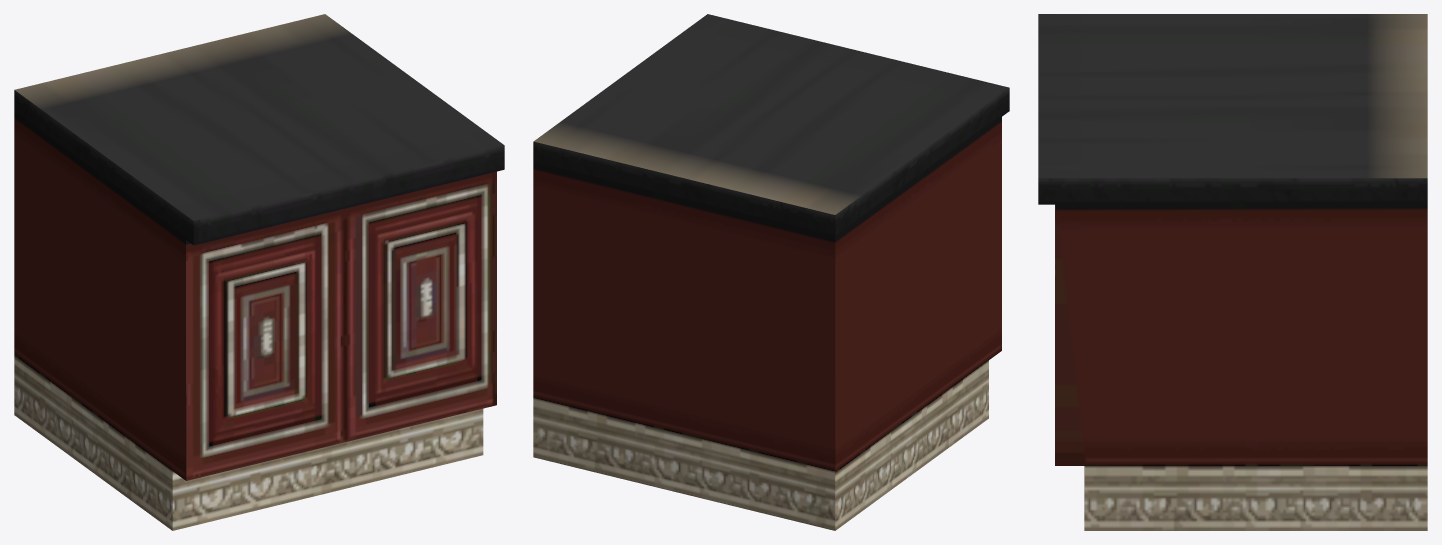
The model's file is furni_0201122_02.FBX.
3 renders of one model, left to right at view 1: azimuth 30°, elevation 25°; view 2: azimuth 150°, elevation 25°; view 3: azimuth 270°, elevation 25°, orthographic. The views are drawn at different scales.
Visible parts, largest first — view 1: furni_0201122_02; view 2: furni_0201122_02; view 3: furni_0201122_02.
Boxes of the visible parts, x1=… form: furni_0201122_02: x1=14, y1=14, x2=504, y2=530; furni_0201122_02: x1=533, y1=14, x2=1009, y2=530; furni_0201122_02: x1=1038, y1=14, x2=1427, y2=530.
Bounding box in the file's own units: 80 × 80 × 80.
Materials: 1 (1 with a texture image).
